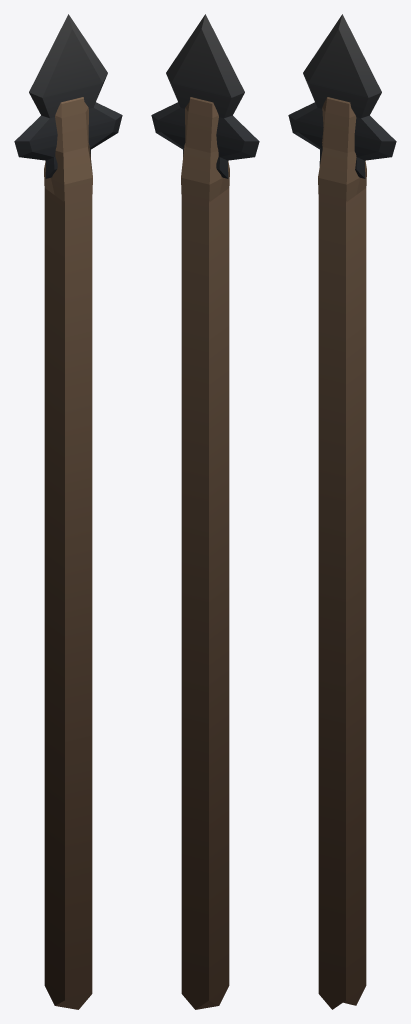
Rendered from Spear.fbx.
The picture shows the model from 3 angles, left to right: view 1: azimuth 30°, elevation 25°; view 2: azimuth 150°, elevation 25°; view 3: azimuth 330°, elevation 25°; orthographic projection.
Visible parts, largest first — view 1: Spear; view 2: Spear; view 3: Spear.
Part boxes in pixels (x1,y1,x2,y2): Spear: (14,14,122,1009); Spear: (151,14,259,1009); Spear: (288,14,396,1009).
Size of the model in its own units: 27.36 by 239 by 8.9.
